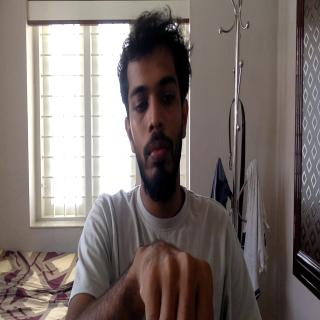Yes: (114, 204, 222, 318)
